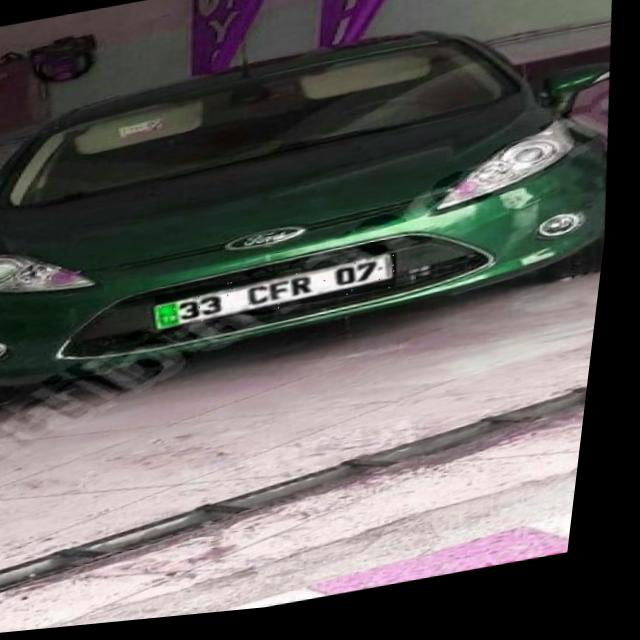license_plate: (159, 260, 407, 334)
